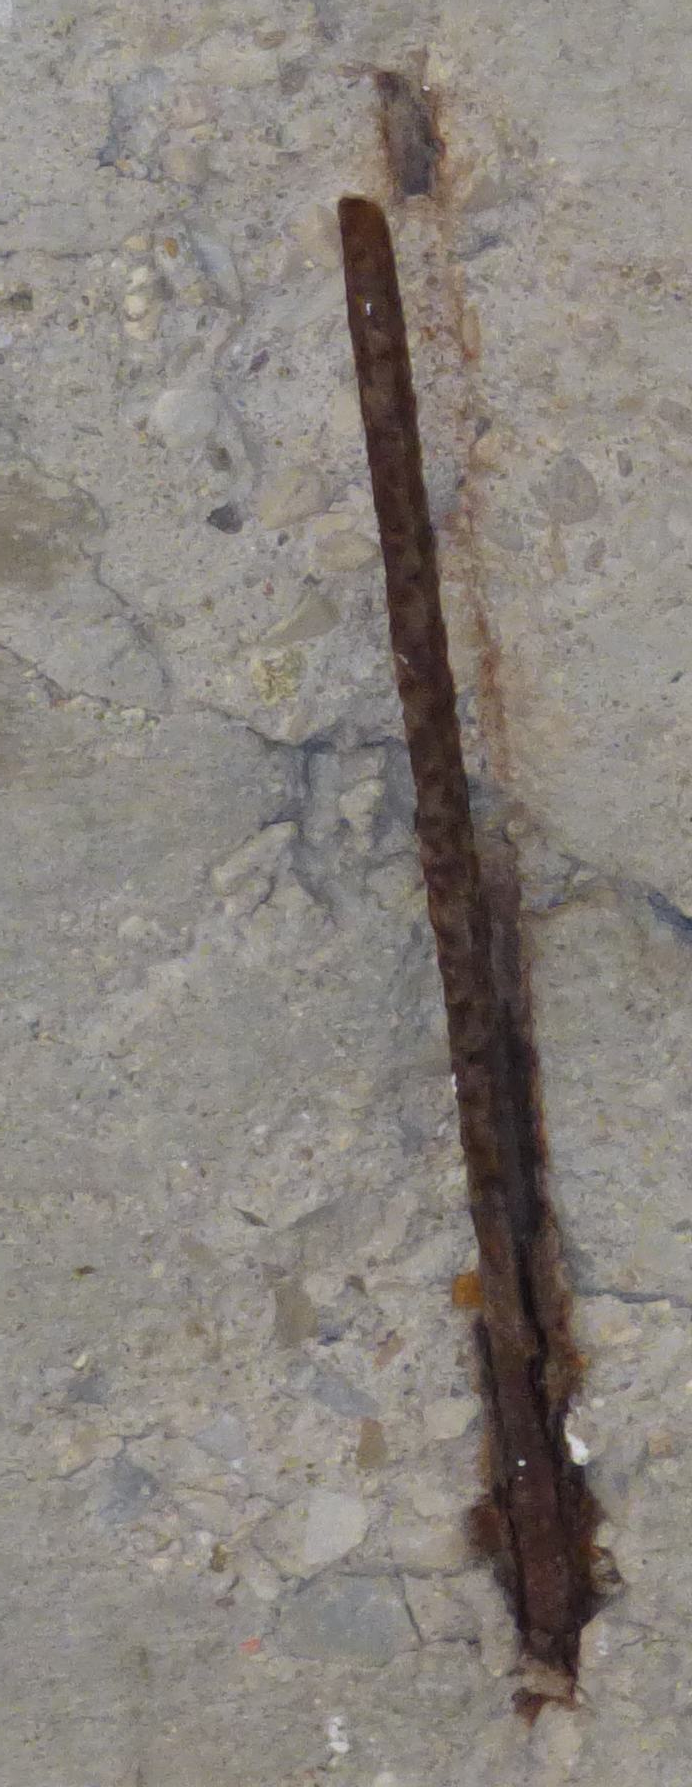Exposed reinforcement: (334, 191, 601, 1662)
